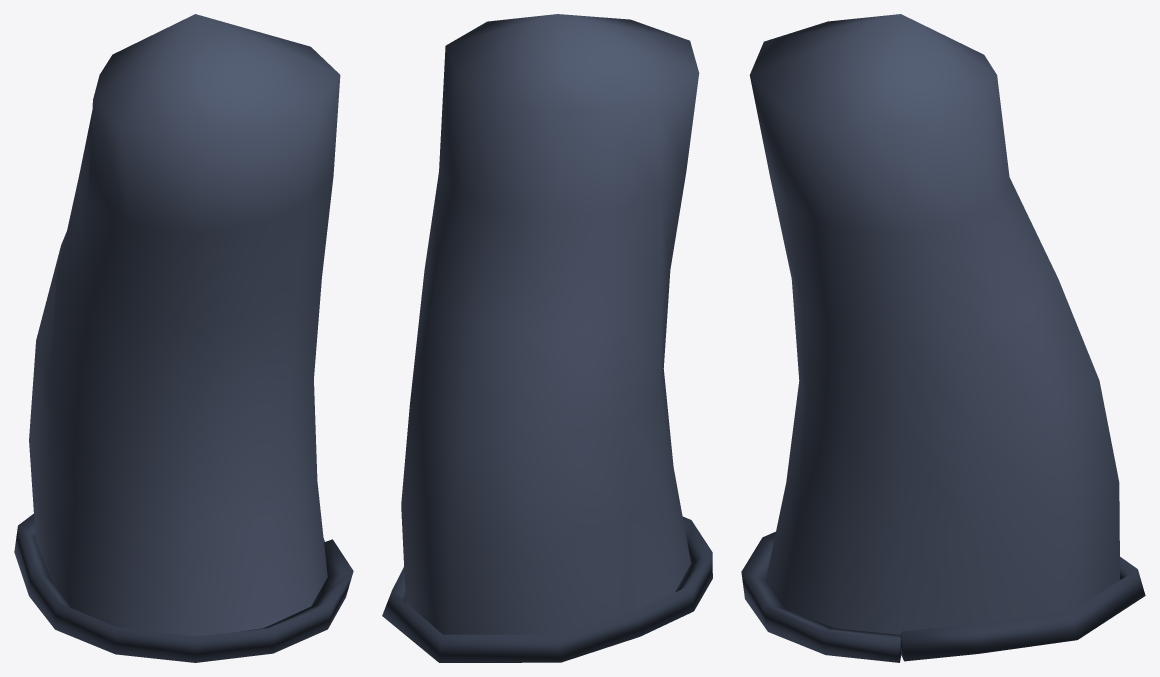
Rendered from lead_armor_boot.R.glb.
3 views of the same model, side by side, from view 1: azimuth 30°, elevation 25°; view 2: azimuth 150°, elevation 25°; view 3: azimuth 270°, elevation 25° (orthographic). The views are drawn at different scales.
Visible parts, largest first — view 1: lead_armor_boot.R; view 2: lead_armor_boot.R; view 3: lead_armor_boot.R.
Boxes of the visible parts, x1,y1,x2,y2 form: lead_armor_boot.R: [14, 14, 353, 662]; lead_armor_boot.R: [382, 14, 712, 662]; lead_armor_boot.R: [741, 14, 1145, 662].
Size of the model in its own units: 0.147 by 0.2958 by 0.1849.
